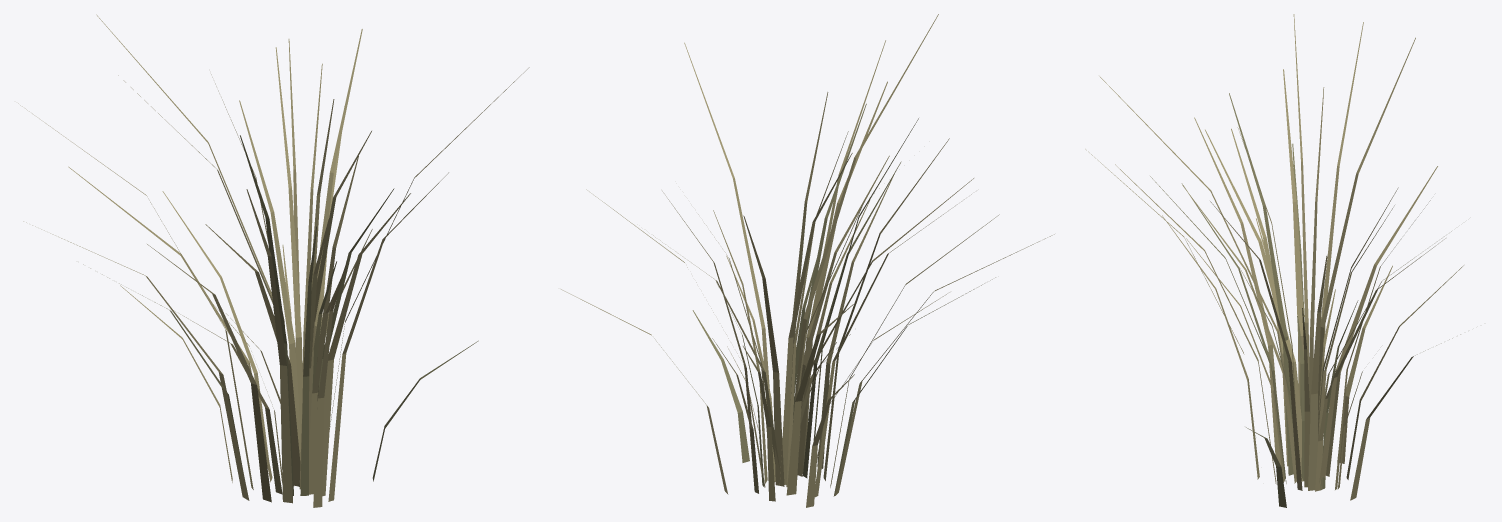
File: ZR_WildGrass_Tall.fbx
3 renders of one model, left to right at view 1: azimuth 30°, elevation 25°; view 2: azimuth 150°, elevation 25°; view 3: azimuth 270°, elevation 25°, orthographic. The views are drawn at different scales.
Parts seen in each view (by area): view 1: ZR_WildGrass_Tall; view 2: ZR_WildGrass_Tall; view 3: ZR_WildGrass_Tall.
Boxes of the visible parts, <box> form: ZR_WildGrass_Tall: <box>18,14,529,507</box>; ZR_WildGrass_Tall: <box>561,14,1054,507</box>; ZR_WildGrass_Tall: <box>1085,14,1463,507</box>.
Bounding box in the file's own units: 1.05 × 0.9963 × 0.9332.
